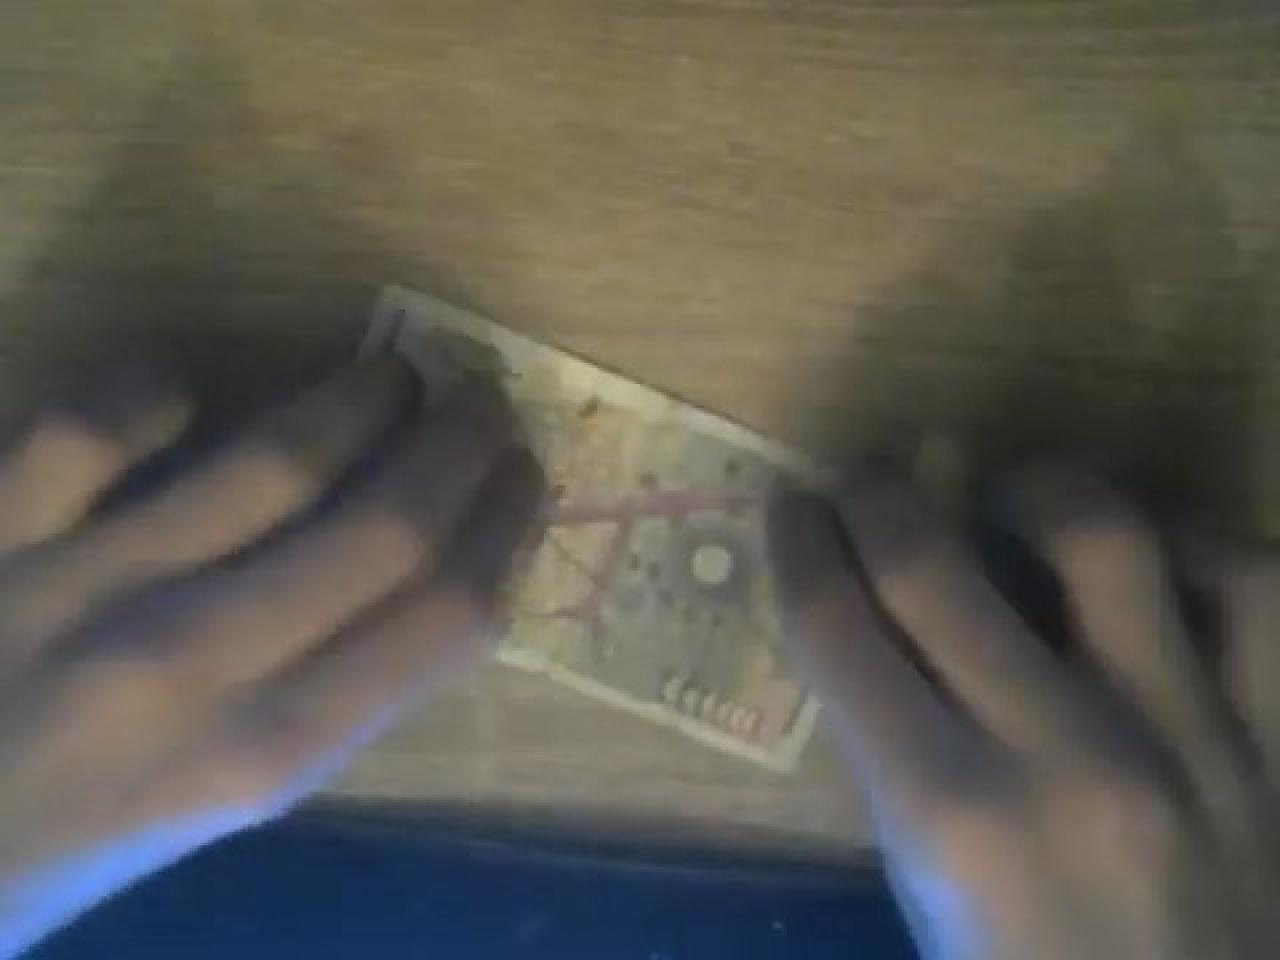10leva: (379, 282, 813, 773)
